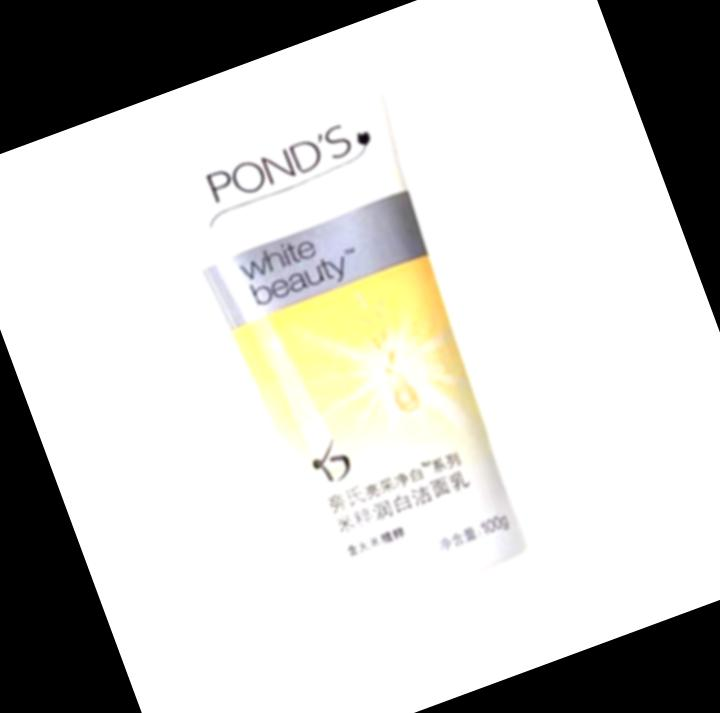cosmetic: (132, 48, 585, 713)
